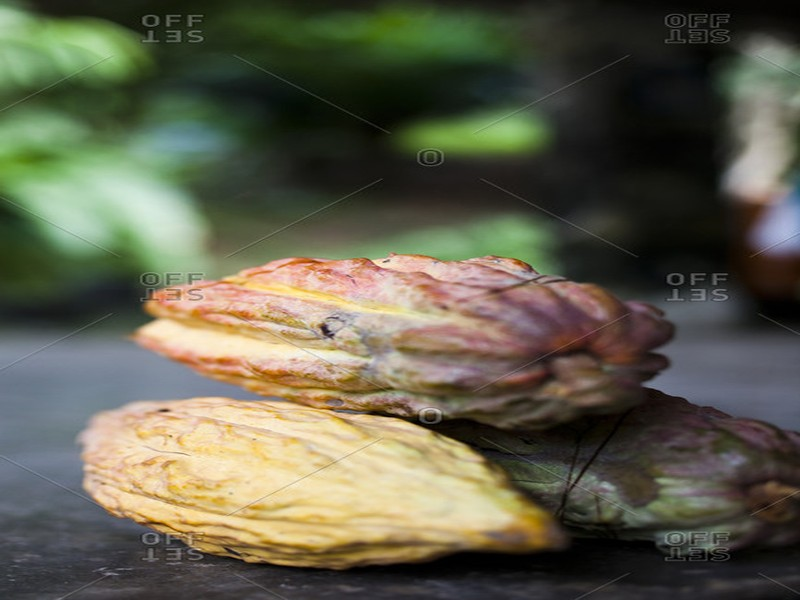Cacaopod: (141, 250, 662, 424)
